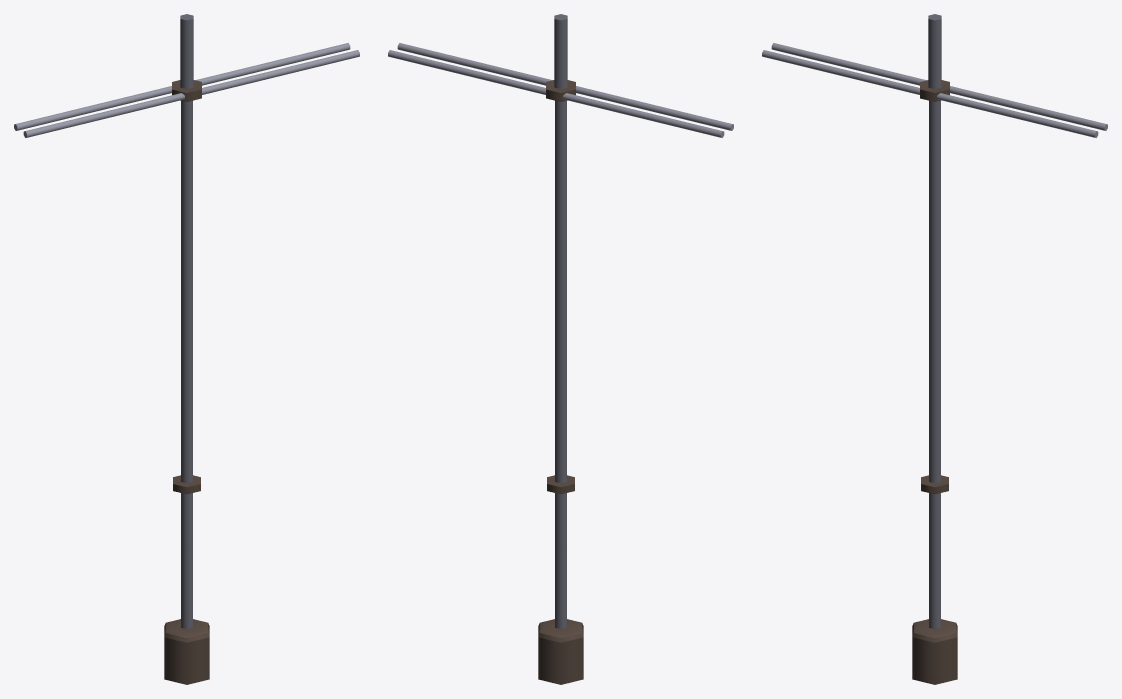
File: bannerpole.glb
3 views of the same model, side by side, from view 1: azimuth 30°, elevation 25°; view 2: azimuth 150°, elevation 25°; view 3: azimuth 330°, elevation 25° (orthographic).
Parts seen in each view (by area): view 1: BannerPole; view 2: BannerPole; view 3: BannerPole.
Boxes of the visible parts, box(x1,y1,x2,y2) form: BannerPole: box(14, 14, 359, 684); BannerPole: box(388, 14, 733, 684); BannerPole: box(762, 14, 1107, 684).
Size of what is drawn, in the model's own units: 2.84 by 5.35 by 0.3362.
Materials: 1 (1 with a texture image).
